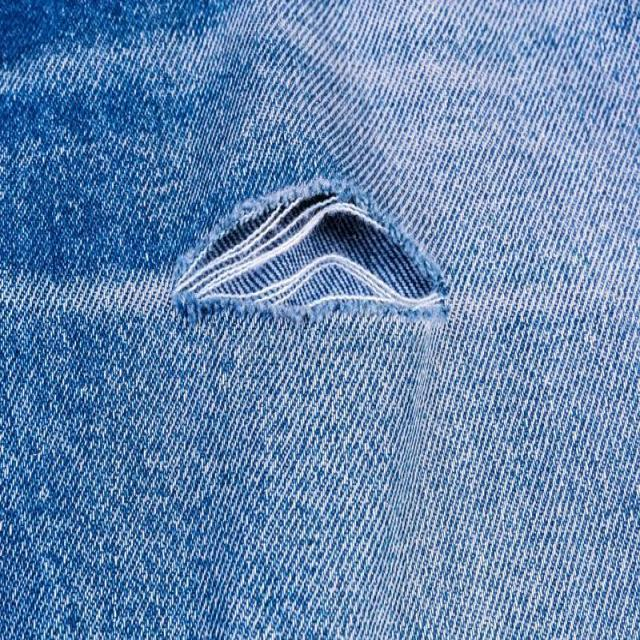Hole: (172, 180, 448, 322)
